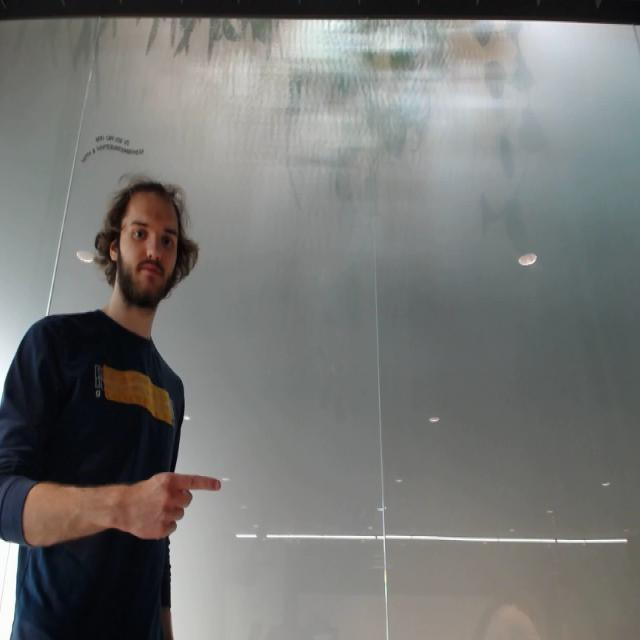right: (116, 465, 228, 546)
